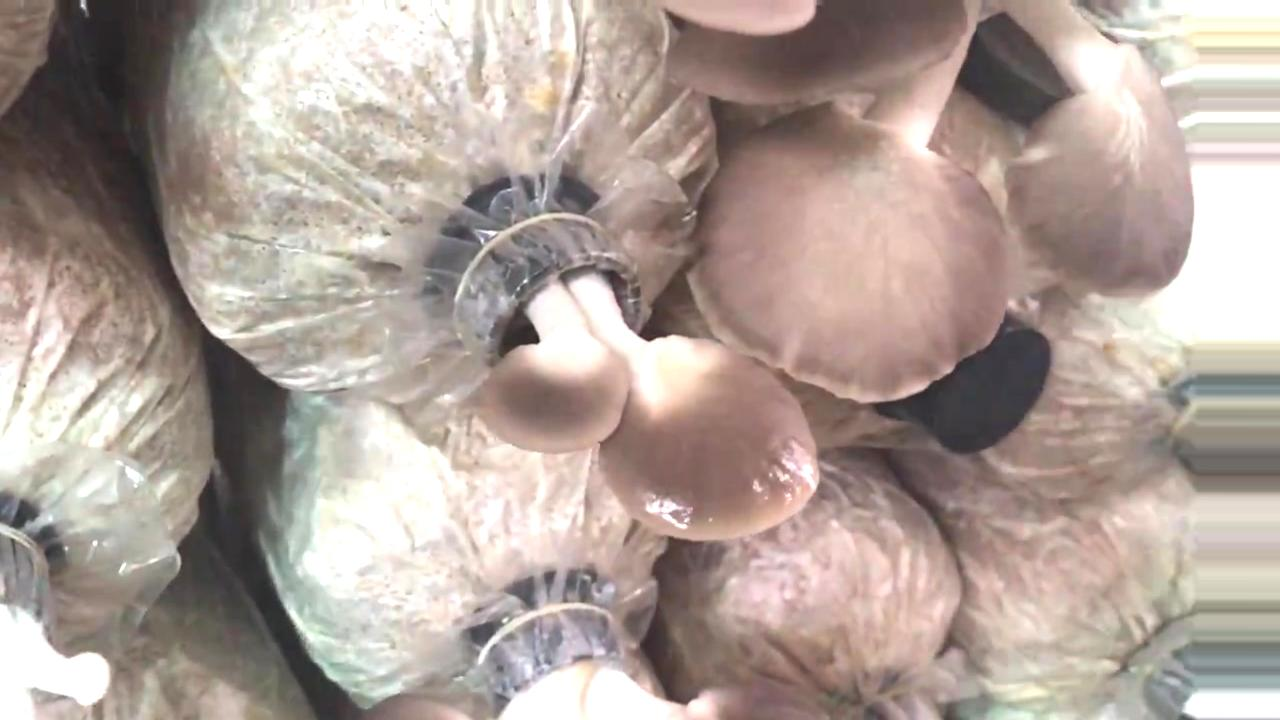nam: (666, 1, 1195, 412), (470, 213, 820, 548)
